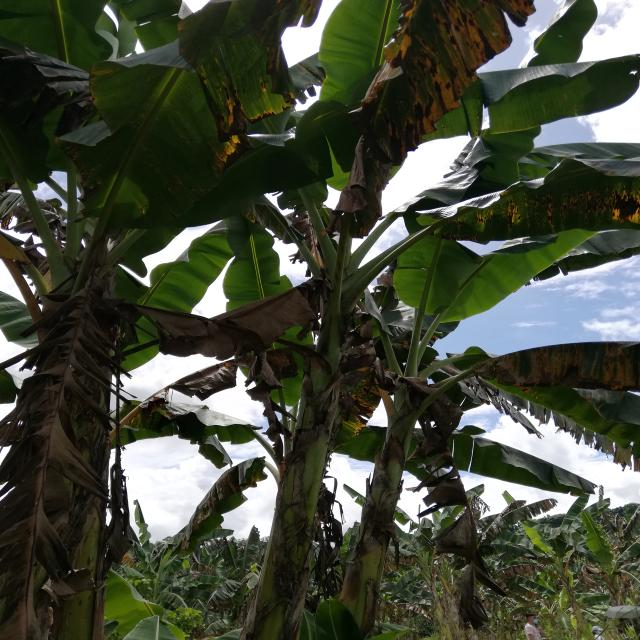Banana-plant: (0, 223, 140, 640), (247, 236, 391, 640), (308, 401, 451, 636)
